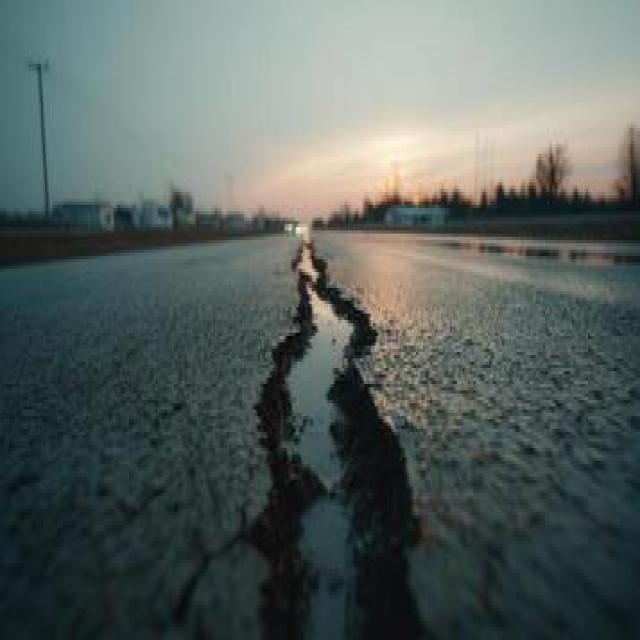road collapse: (73, 89, 557, 638)
